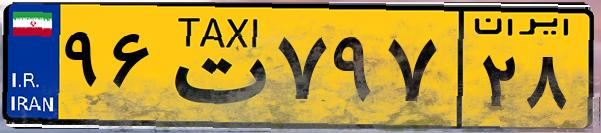2: (475, 38, 525, 113)
6: (110, 28, 158, 98)
7: (270, 28, 330, 110), (385, 28, 445, 110)
8: (525, 38, 570, 115)
9: (330, 28, 385, 110), (57, 26, 110, 100)
ت: (158, 12, 270, 120)
